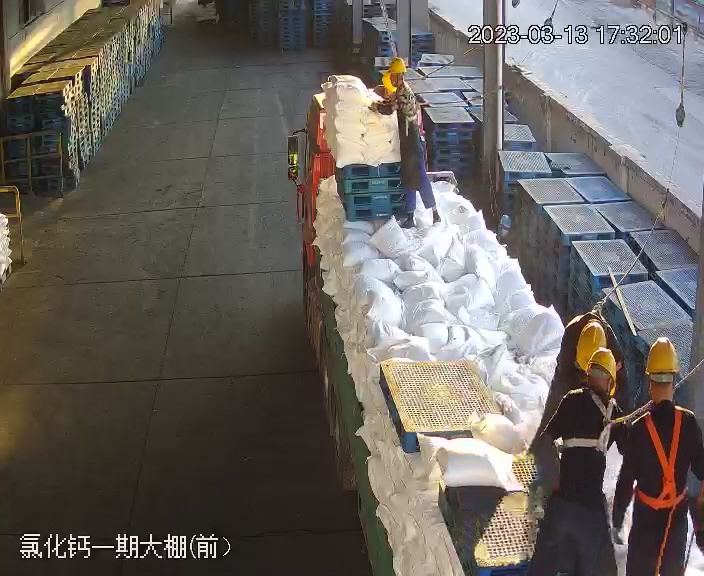belt: (622, 401, 704, 513), (566, 389, 628, 451), (578, 298, 614, 338), (389, 89, 418, 118)
head: (619, 340, 702, 449), (550, 339, 623, 422), (559, 315, 622, 379)
helmet: (569, 321, 616, 375), (644, 338, 679, 374), (584, 346, 618, 381), (580, 320, 607, 362), (387, 57, 407, 74)
people: (528, 335, 626, 576), (610, 335, 704, 576), (370, 66, 441, 229)
truck: (287, 72, 704, 576)
